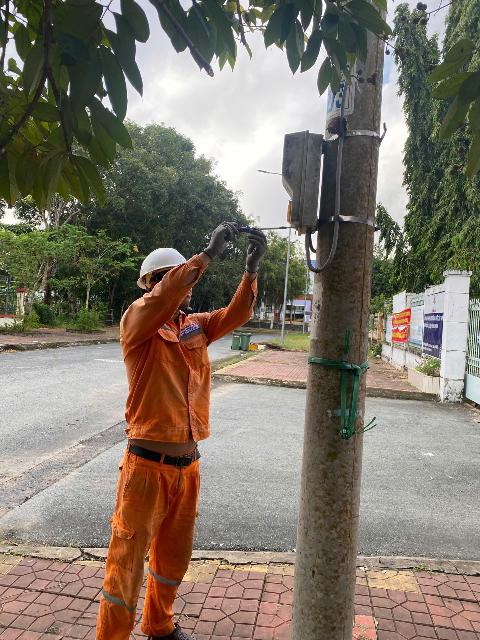gloves: (198, 224, 246, 259), (241, 221, 272, 272)
helmet: (125, 234, 192, 277)
